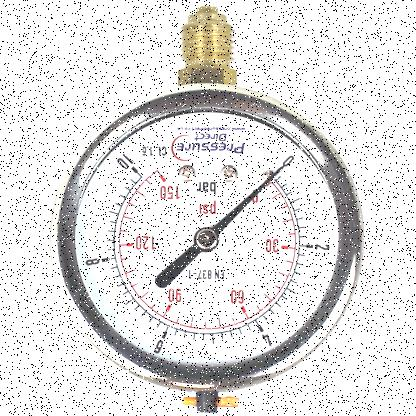needle: (211, 164, 286, 236)
